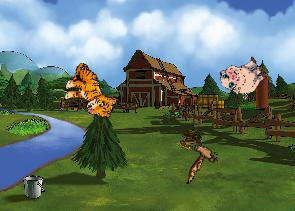eagle: (180, 133, 221, 184)
pig: (215, 49, 271, 104)
tiger: (58, 60, 124, 121)
